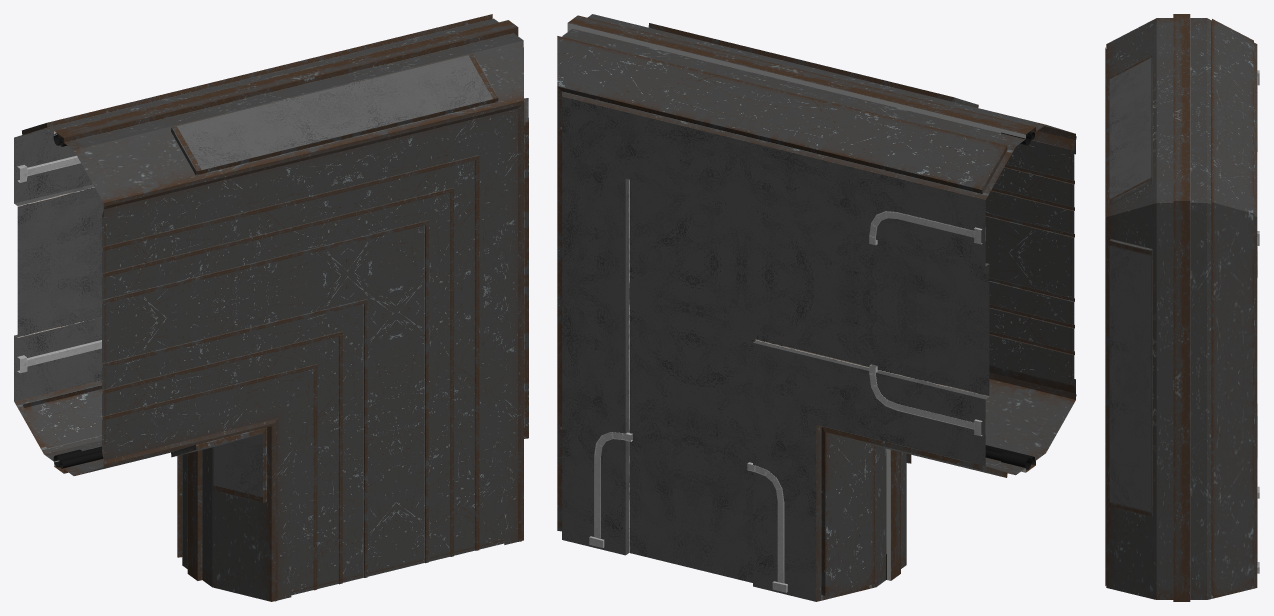
Rendered from Coridor_small_1_angle_90.FBX.
3 views of the same model, side by side, from view 1: azimuth 30°, elevation 25°; view 2: azimuth 150°, elevation 25°; view 3: azimuth 270°, elevation 25° (orthographic). The views are drawn at different scales.
Visible parts, largest first — view 1: Coridor_small_007; view 2: Coridor_small_007; view 3: Coridor_small_007.
Part boxes in pixels (bbox=[...]): Coridor_small_007: bbox=[14, 14, 528, 601]; Coridor_small_007: bbox=[557, 14, 1076, 601]; Coridor_small_007: bbox=[1105, 14, 1259, 601].
Size of the model in its own units: 8.96 by 8.96 by 3.13.
1 material, 1 textured.
